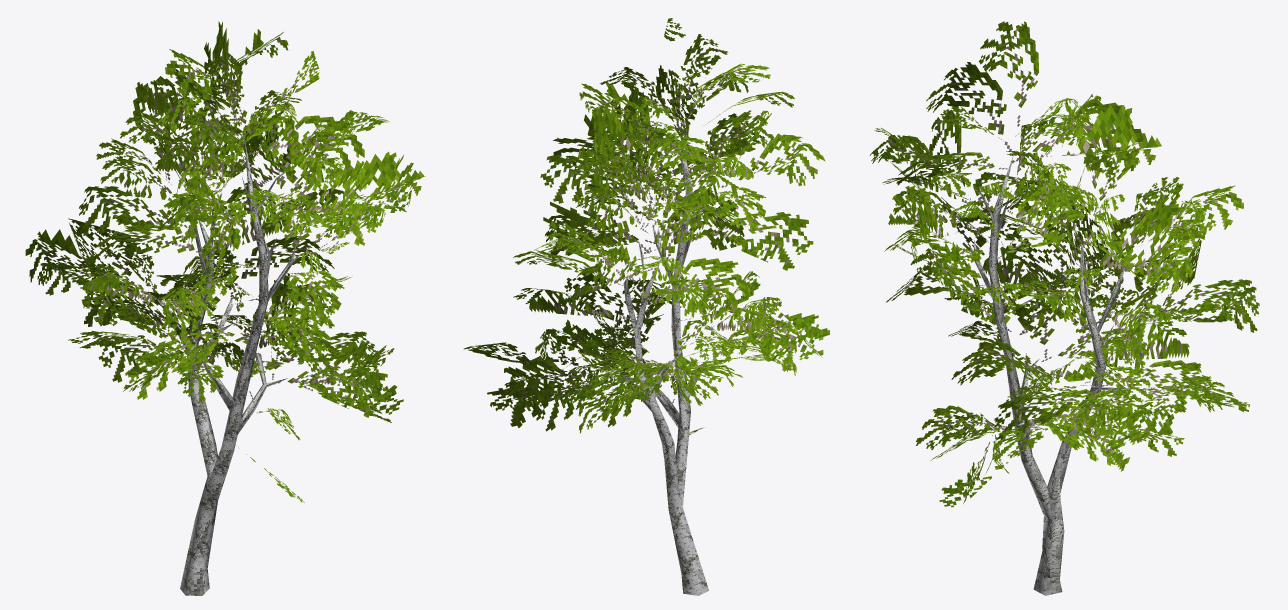
The model's file is tree_birch_lo.glb.
3 views of the same model, side by side, from view 1: azimuth 30°, elevation 25°; view 2: azimuth 150°, elevation 25°; view 3: azimuth 270°, elevation 25° (orthographic). The views are drawn at different scales.
Parts seen in each view (by area): view 1: m; view 2: m; view 3: m.
Boxes of the visible parts, bbox=[...] form: m: bbox=[25, 21, 425, 595]; m: bbox=[463, 18, 829, 595]; m: bbox=[870, 21, 1259, 595].
Bounding box in the file's own units: 0.6092 × 1 × 0.675.
2 materials, 2 textured.
